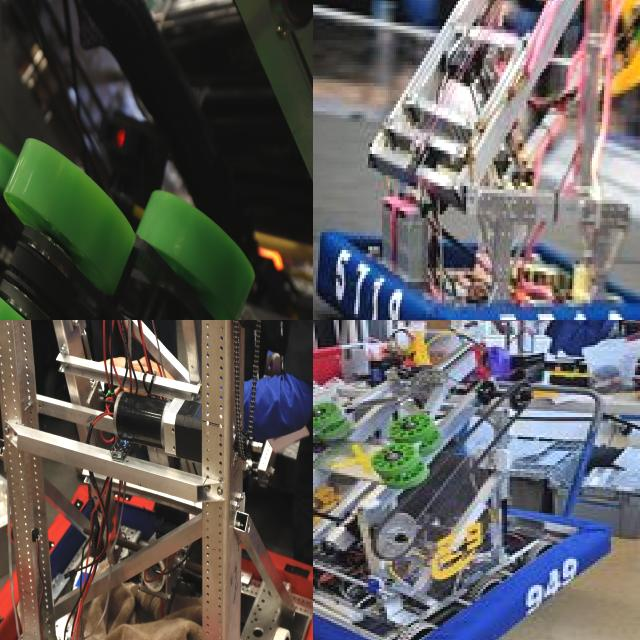FRC-Robots: (313, 0, 640, 320), (313, 320, 640, 640), (0, 0, 313, 320), (0, 320, 313, 640)
